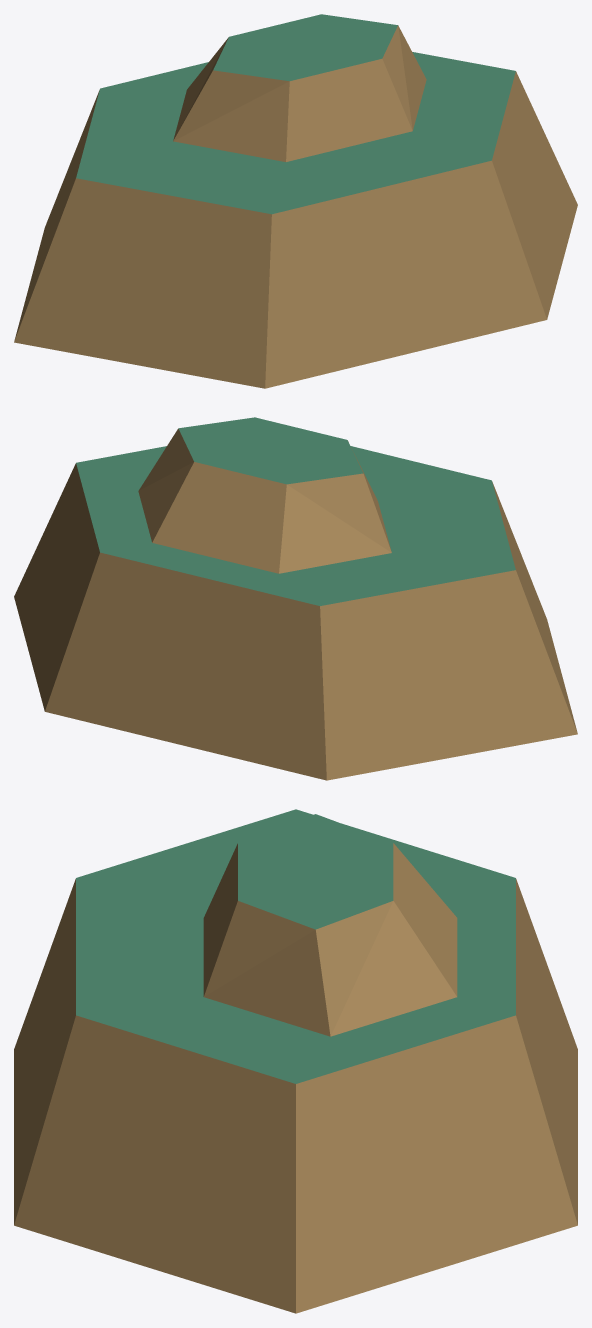
File: Rock_Small_Mesa_Eroded_Moss_Grass_18.FBX
The picture shows the model from 3 angles, top to bottom: view 1: azimuth 30°, elevation 25°; view 2: azimuth 150°, elevation 25°; view 3: azimuth 270°, elevation 25°; orthographic projection. The views are drawn at different scales.
Visible parts, largest first — view 1: Rock_Small_Mesa_Eroded_Moss_Grass_18; view 2: Rock_Small_Mesa_Eroded_Moss_Grass_18; view 3: Rock_Small_Mesa_Eroded_Moss_Grass_18.
Part boxes in pixels (x1,y1,x2,y2): Rock_Small_Mesa_Eroded_Moss_Grass_18: [14, 14, 577, 388]; Rock_Small_Mesa_Eroded_Moss_Grass_18: [14, 417, 577, 780]; Rock_Small_Mesa_Eroded_Moss_Grass_18: [14, 809, 577, 1313].
Bounding box in the file's own units: 1903 × 697 × 1288.
